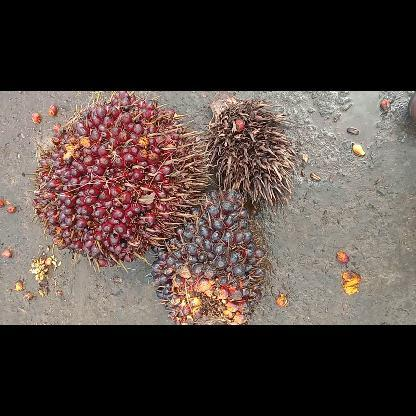Janjang kosong: (204, 90, 300, 214)
TBS masak: (29, 91, 213, 273)
TBS mentah: (151, 190, 265, 324)
